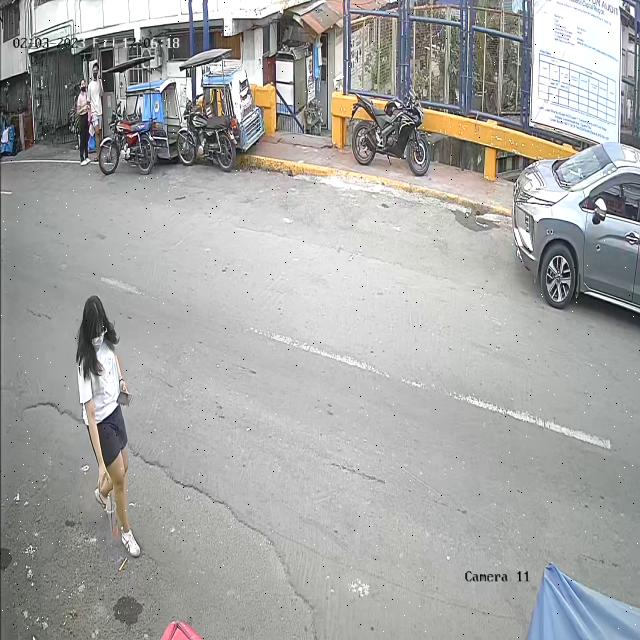human: (76, 295, 140, 557)
trash: (99, 489, 123, 540)
